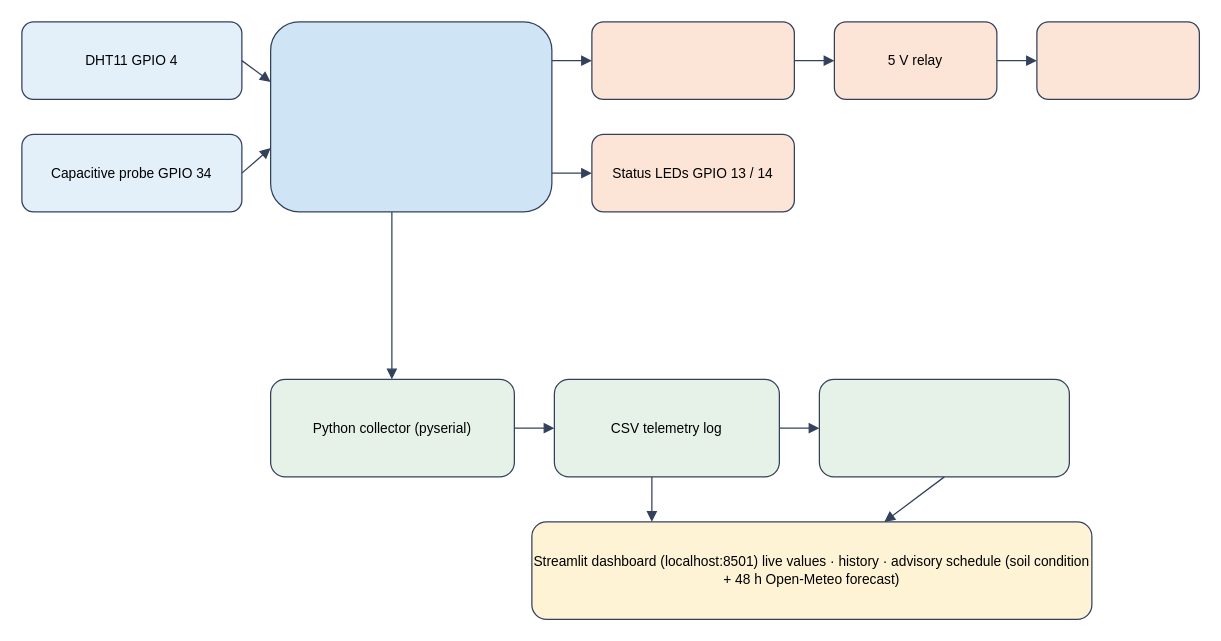
Image size: 1221x641. Some labels were removed from this diagram. The shapes that lost their labels are listed below. From the top down, each one's box as (x1, y1, x2, y2) in pixels, then its label:
(591, 21, 794, 99): BC547B driver GPIO 26
(1036, 21, 1199, 99): DC pump
(269, 21, 552, 212): ESP32-WROOM-32 hysteresis 30 / 60 % 1 Hz control loop
(818, 378, 1069, 477): Soil classifiers CNN features + SVM
